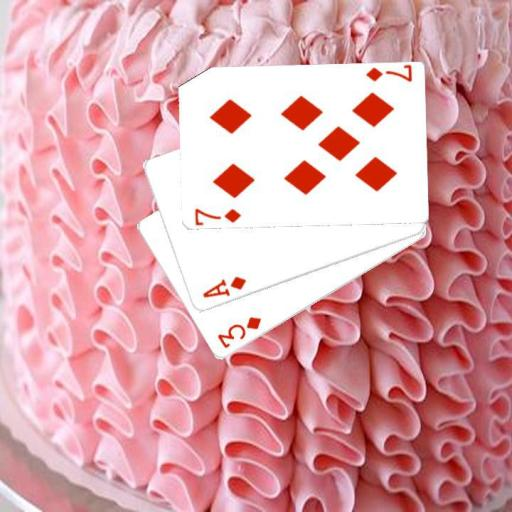3D: (214, 314, 263, 351)
7D: (191, 206, 243, 225), (362, 65, 413, 84)
AD: (199, 274, 248, 300)
